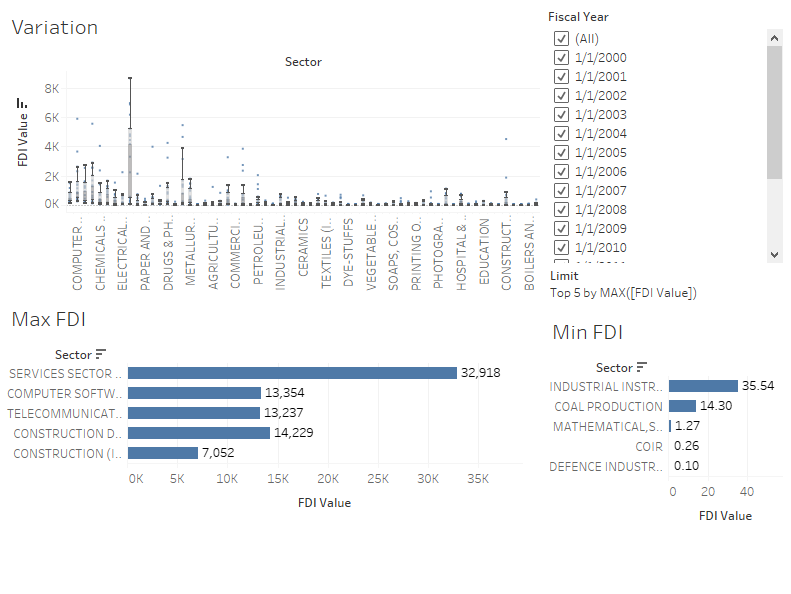

The page's visual inventory and layout, read from the dashboard file:
{"tool":"tableau","page":{"name":"Dashboard 3","canvas":[800,600],"ordinal":2},"visuals":[{"type":"worksheet","box":[0,0,800,600]},{"type":"worksheet","param":"horz","box":[8,8,784,584]},{"type":"worksheet","box":[8,8,541,584]},{"type":"worksheet","title":"Variation","mark":"Circle","rows":["Pivot Field Values"],"cols":["Sector"],"box":[8,8,541,292]},{"type":"worksheet","param":"vert","box":[549,8,243,584]},{"type":"worksheet","title":"Max FDI","mark":"Automatic","rows":["Sector"],"cols":["Pivot Field Values"],"param":"[federated.1skucmb0c9w6hb1dbcbba0i32f8y].[none:Calculation_307933692484055040:nk","box":[549,8,243,305]},{"type":"worksheet","title":"Max FDI","mark":"Automatic","rows":["Sector"],"cols":["Pivot Field Values"],"box":[8,300,541,292]},{"type":"worksheet","title":"Min FDI","mark":"Automatic","rows":["Sector"],"cols":["Pivot Field Values"],"box":[549,313,243,279]}]}

Visuals, with their boxes in screenshot pixels (x1, y1, x2, y2), scaled from the page's 800x600 canvas onto the 791x594 screenshot:
worksheet: pyautogui.locateOnScreen(0, 0, 790, 593)
worksheet: pyautogui.locateOnScreen(8, 8, 783, 586)
worksheet: pyautogui.locateOnScreen(8, 8, 543, 586)
"Variation" worksheet (Circle marks): pyautogui.locateOnScreen(8, 8, 543, 297)
worksheet: pyautogui.locateOnScreen(543, 8, 783, 586)
"Max FDI" worksheet: pyautogui.locateOnScreen(543, 8, 783, 310)
"Max FDI" worksheet: pyautogui.locateOnScreen(8, 297, 543, 586)
"Min FDI" worksheet: pyautogui.locateOnScreen(543, 310, 783, 586)
